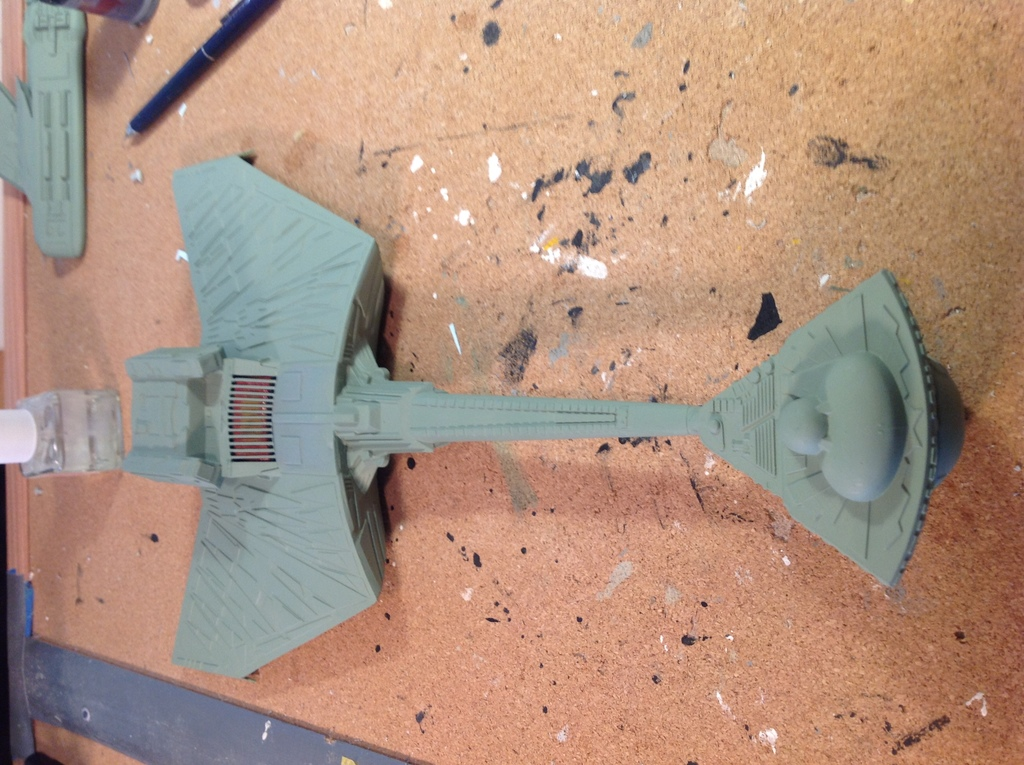Pen: (120, 0, 286, 135)
